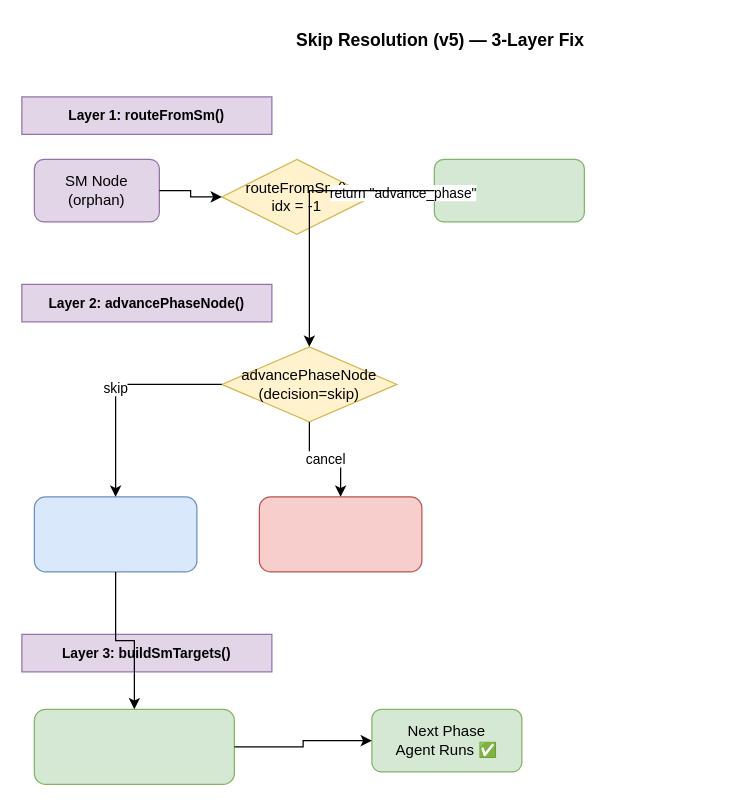
Some shapes in this 744 by 806 pixel diagram are drawn without their labels. Each missing label, with the centre of its shape:
"advance_phase" (NOT agentRegistry): [508,190]
buildSmTargets() includes: { advance_phase: "advance_phase" }: [133,746]
Cancel: pipelineStatus = "cancelled": [340,534]
Reposition index: targetIdx = currentPhaseIndex: [115,534]
